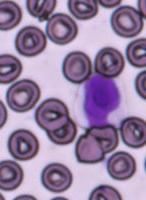M: (74, 72, 125, 128)
